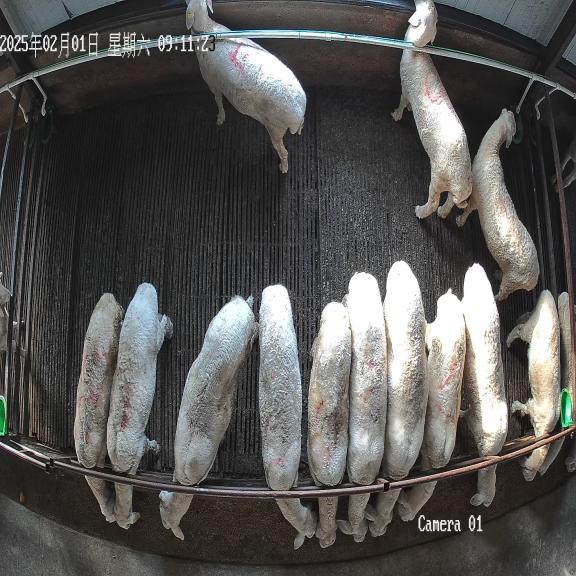eating: (159, 296, 258, 539), (365, 260, 428, 536), (107, 282, 173, 529), (396, 290, 465, 522), (259, 284, 317, 549), (336, 272, 387, 542), (460, 263, 508, 506), (74, 293, 123, 522), (307, 302, 351, 548), (506, 290, 560, 481)
stand: (186, 0, 306, 172), (392, 0, 472, 218), (457, 109, 539, 302)
